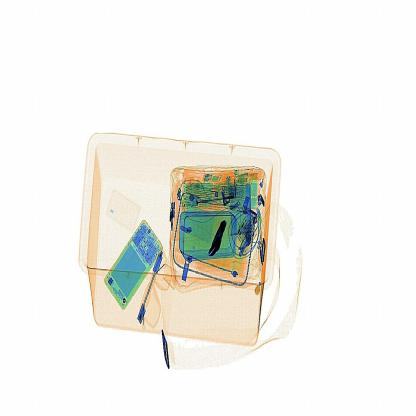knife: (209, 219, 226, 264)
